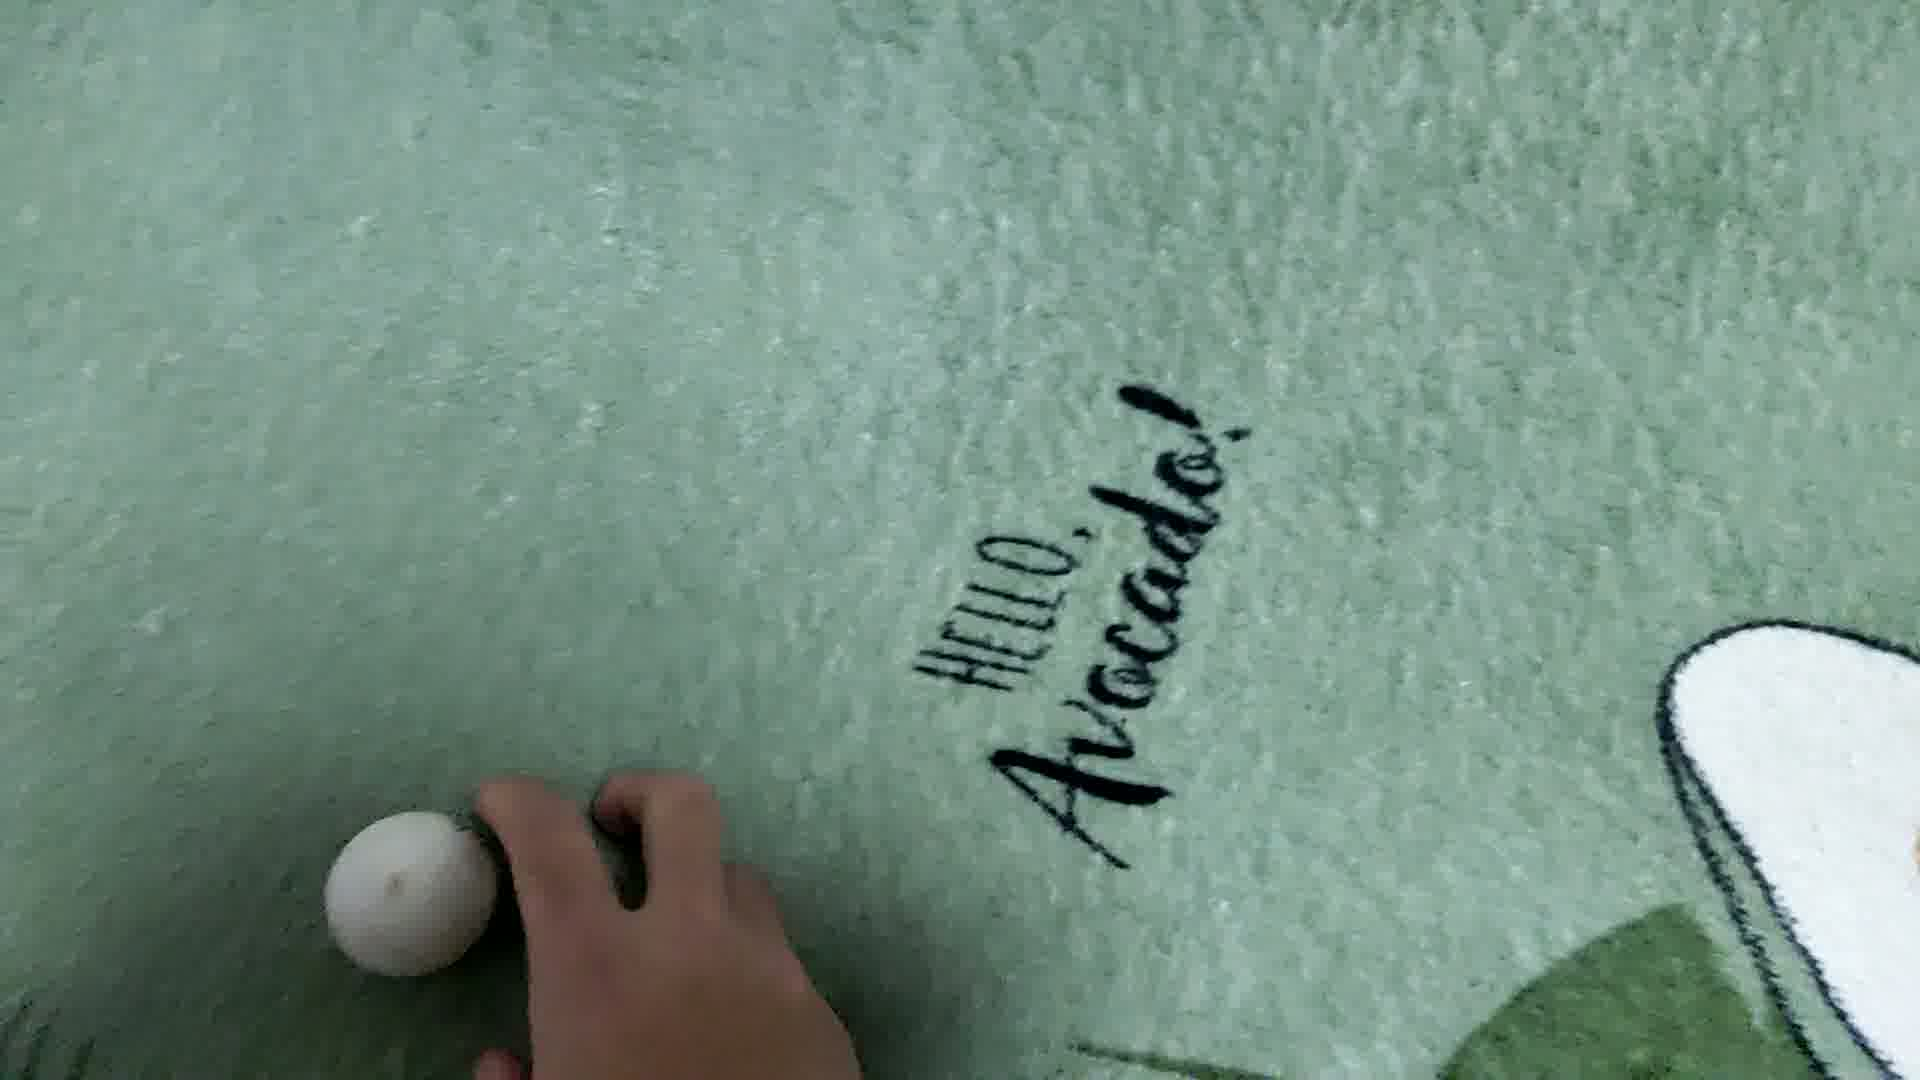Ball: (322, 814, 498, 977)
